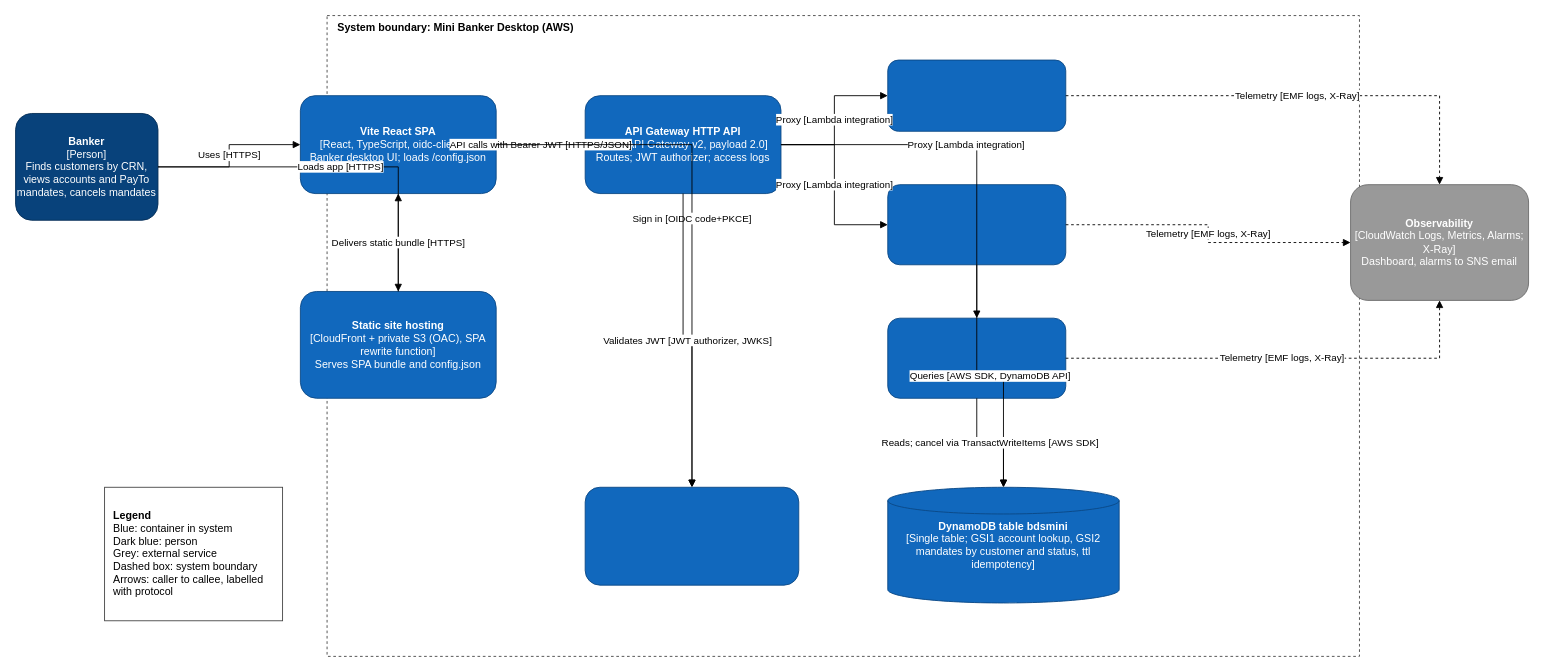
This 1544x672 diagram has some shape labels left out. The box of each missing label's shape, as (x1, y1, x2, y2) in pixels:
Cognito [User pool, hosted domain, SPA client, banker group] Banker sign-in: (584, 486, 799, 585)
customers Lambda [Node.js 22, esbuild bundle] Customer search and accounts: (887, 184, 1066, 265)
launch Lambda [Node.js 22, esbuild bundle]: (887, 59, 1066, 131)
mandates Lambda [Node.js 22, esbuild bundle] List and cancel PayTo mandates: (887, 317, 1066, 398)
